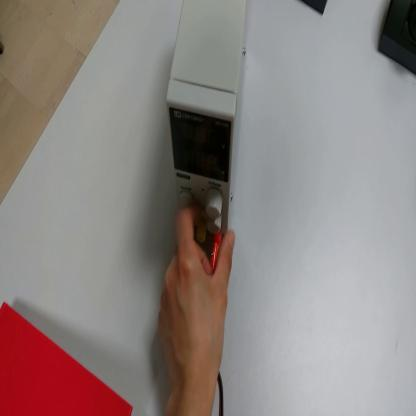hand: (156, 201, 236, 392)
power supply: (168, 2, 250, 243)
register: (1, 301, 134, 415)
socket: (374, 2, 416, 75), (301, 2, 329, 20)
